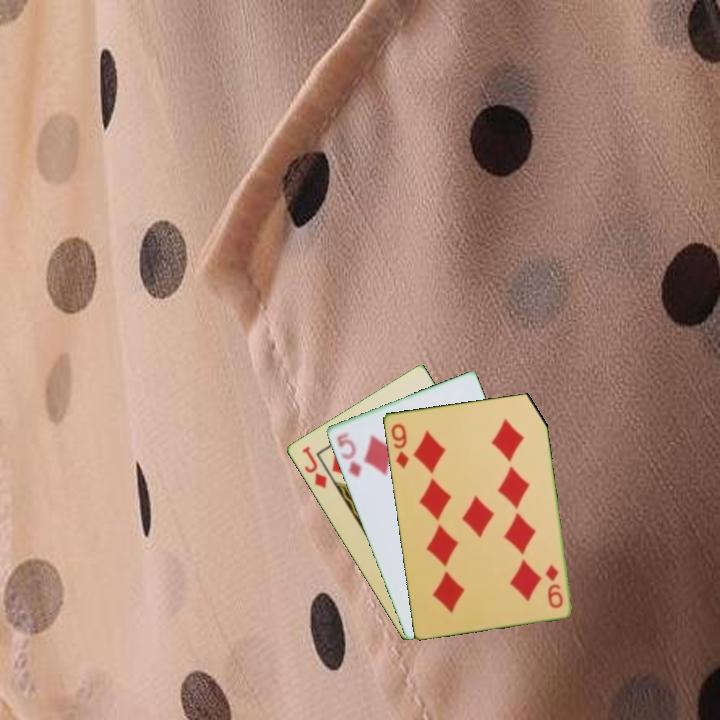5d: (333, 429, 364, 481)
9d: (387, 420, 411, 471), (542, 561, 566, 611)
Jd: (298, 443, 330, 492)
